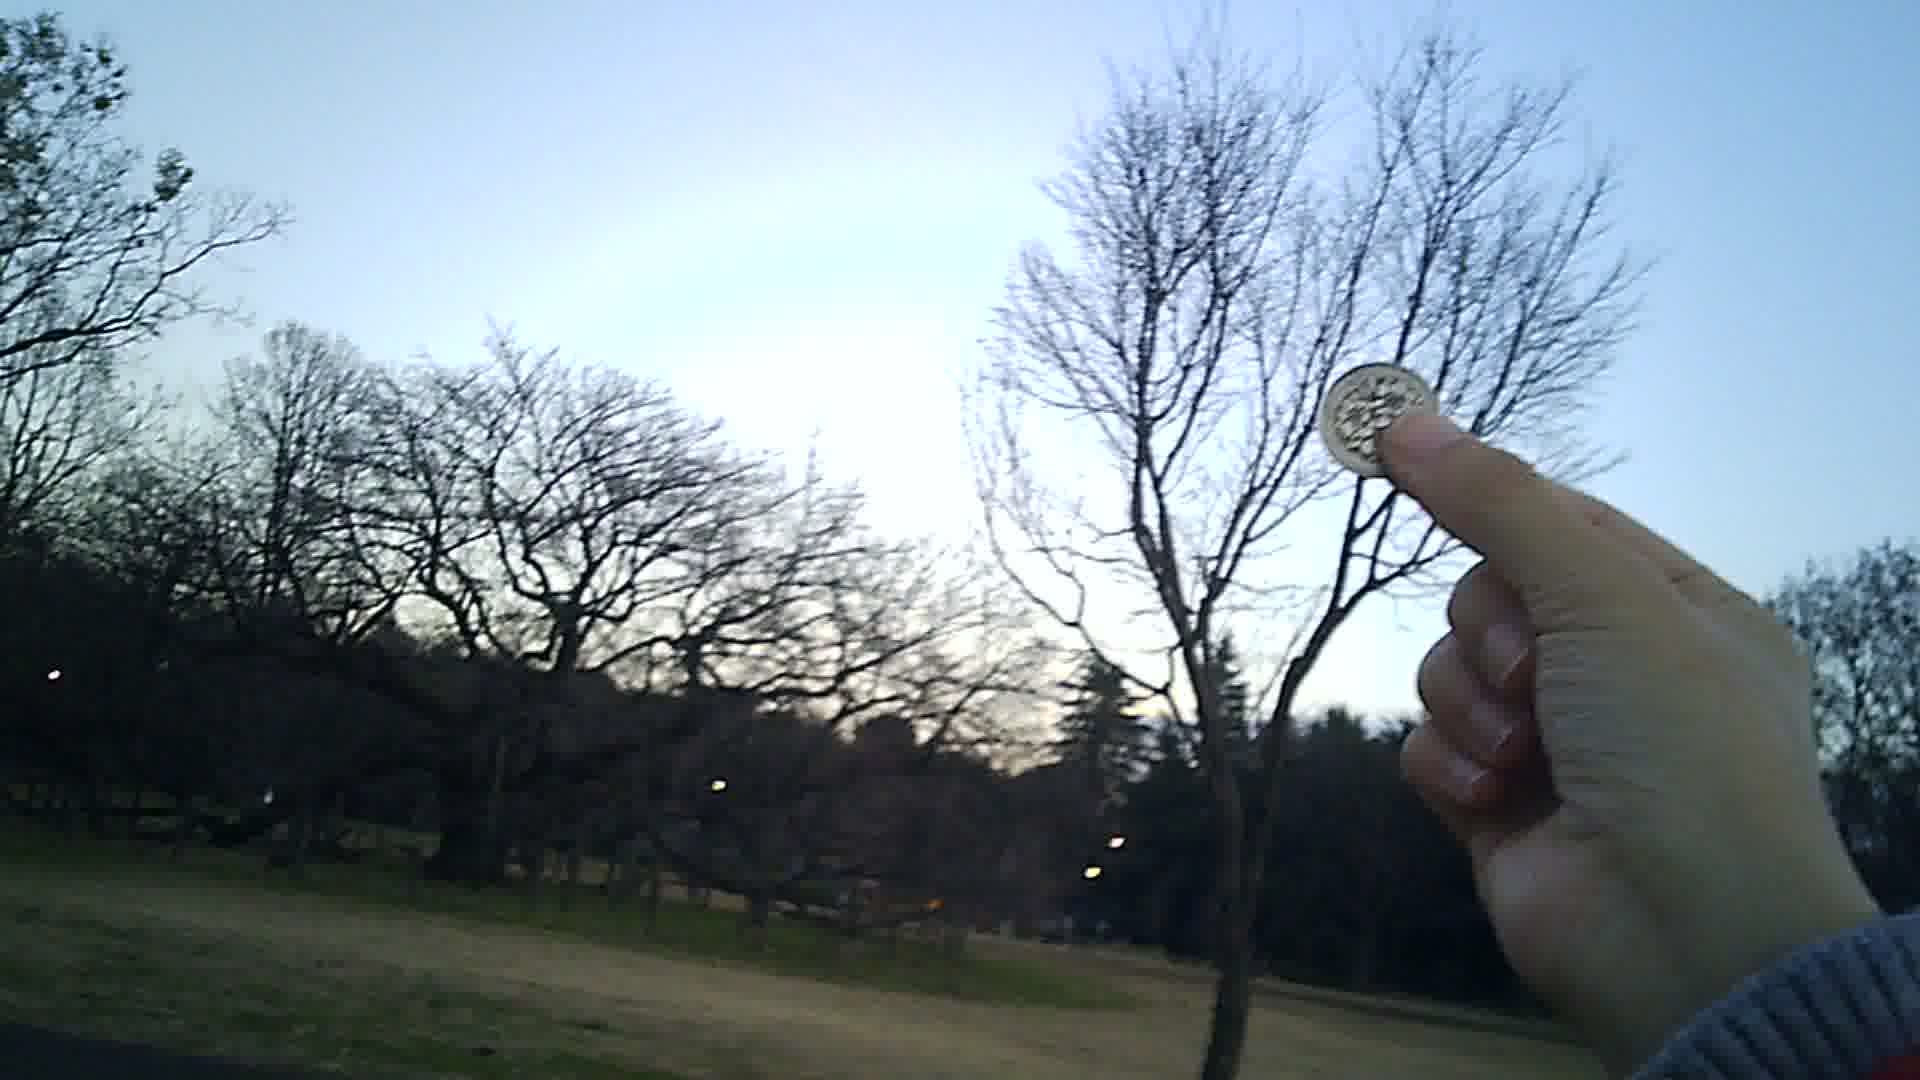100 Yen: (1323, 357, 1444, 483)
